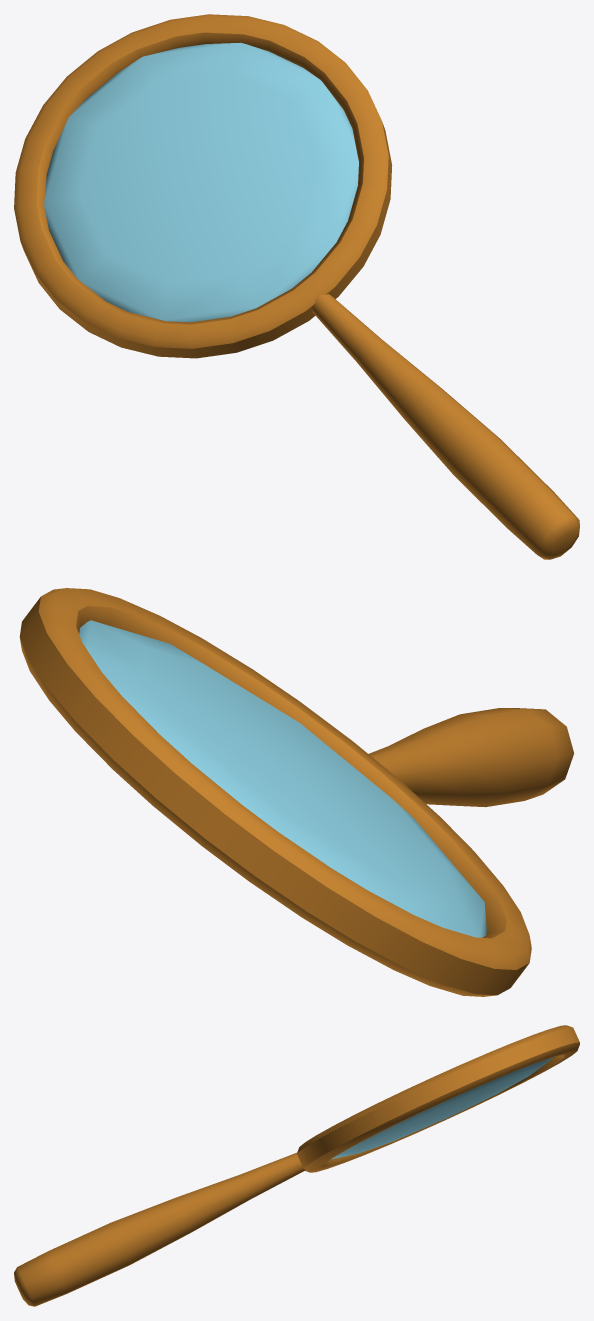
Rendered from Loupe.fbx.
3 renders of one model, top to bottom at view 1: azimuth 30°, elevation 25°; view 2: azimuth 150°, elevation 25°; view 3: azimuth 270°, elevation 25°, orthographic. The views are drawn at different scales.
Parts seen in each view (by area): view 1: Loupe; view 2: Loupe; view 3: Loupe.
Part boxes in pixels (bbox=[...]): Loupe: bbox=[14, 14, 579, 559]; Loupe: bbox=[19, 588, 574, 996]; Loupe: bbox=[14, 1025, 579, 1306].
Bounding box in the file's own units: 0.2265 × 0.2295 × 0.4554.
